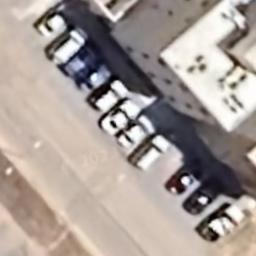pickup: (49, 29, 89, 64)
sedan: (184, 178, 224, 216), (98, 100, 140, 136), (36, 5, 70, 37), (116, 118, 152, 146)
unknown: (92, 76, 124, 112)
van: (131, 134, 170, 170)
